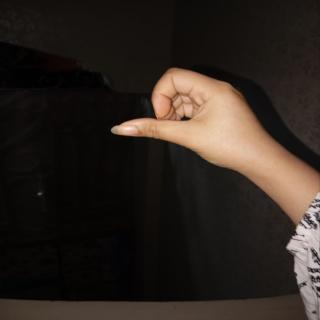WAW: (109, 63, 279, 190)
